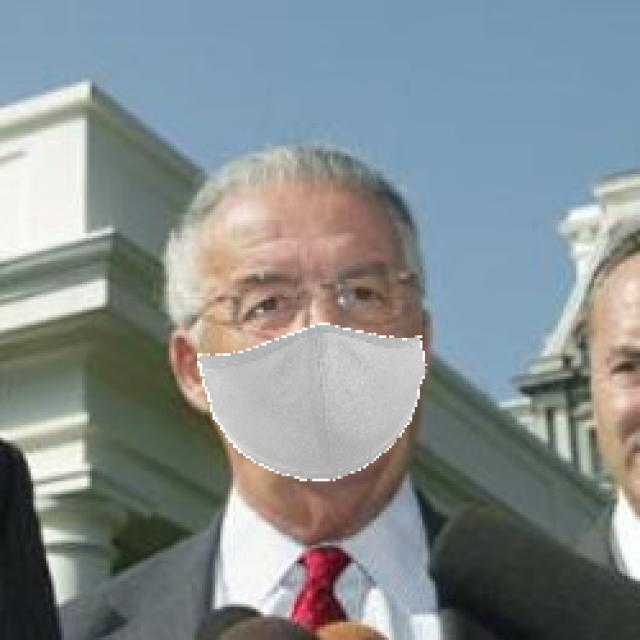cloth: (182, 187, 425, 487)
